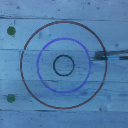Axe Tip: (91, 57, 103, 61)
